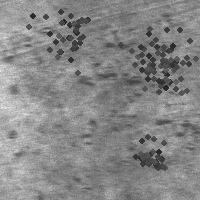rolled-in_scale: (73, 28, 199, 160), (3, 26, 55, 194), (110, 14, 200, 110), (21, 0, 113, 81), (124, 131, 170, 177)
